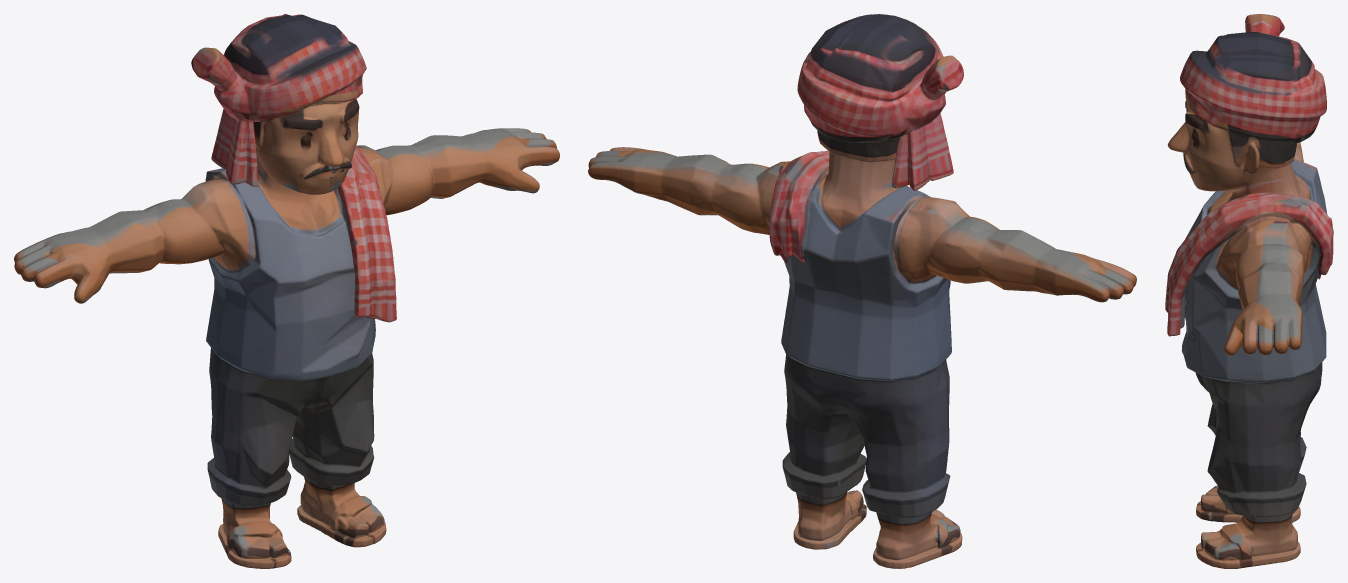
Rendered from worker_clean.glb.
3 renders of one model, left to right at view 1: azimuth 30°, elevation 25°; view 2: azimuth 150°, elevation 25°; view 3: azimuth 270°, elevation 25°, orthographic. The views are drawn at different scales.
Parts seen in each view (by area): view 1: tripo_node_01dddc35-65b0-42b8-b3a3-8ee6a1adf66c; view 2: tripo_node_01dddc35-65b0-42b8-b3a3-8ee6a1adf66c; view 3: tripo_node_01dddc35-65b0-42b8-b3a3-8ee6a1adf66c.
Part boxes in pixels (x1,y1,x2,y2): tripo_node_01dddc35-65b0-42b8-b3a3-8ee6a1adf66c: [14, 14, 559, 568]; tripo_node_01dddc35-65b0-42b8-b3a3-8ee6a1adf66c: [588, 14, 1136, 568]; tripo_node_01dddc35-65b0-42b8-b3a3-8ee6a1adf66c: [1165, 14, 1333, 568].
Bounding box in the file's own units: 1.72 × 1.58 × 0.488.
1 material, 1 textured.
